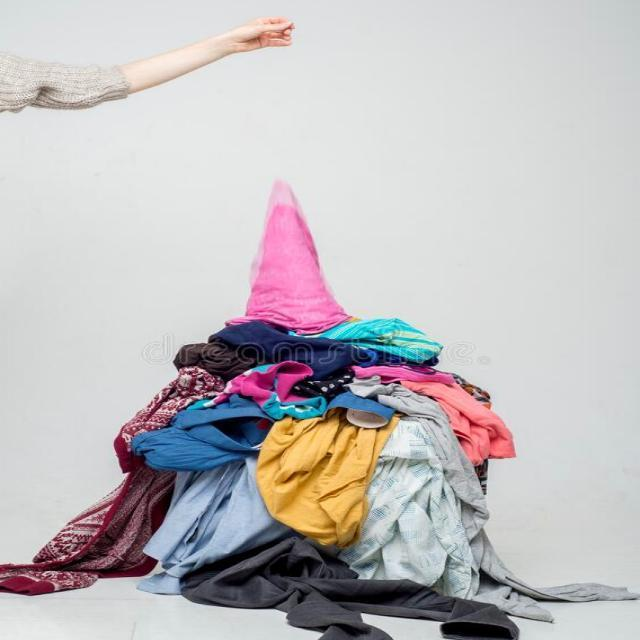clothes: (186, 284, 470, 640)
